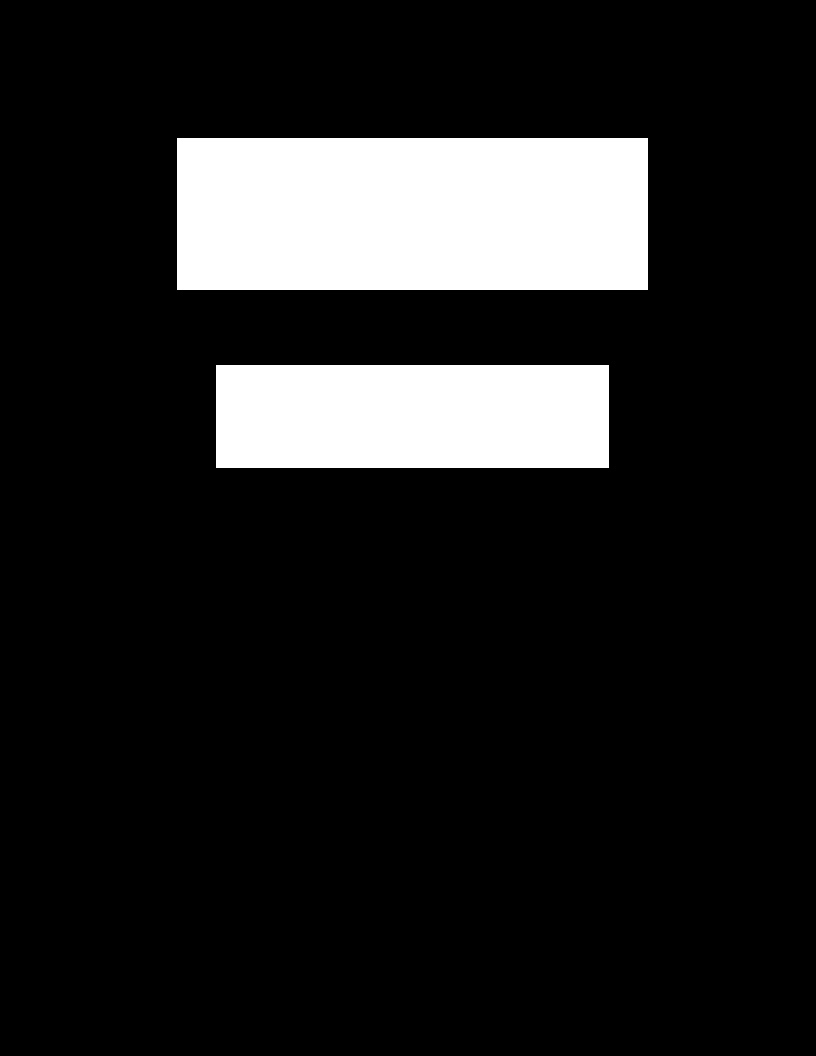table: (177, 138, 647, 289), (216, 365, 608, 467)
